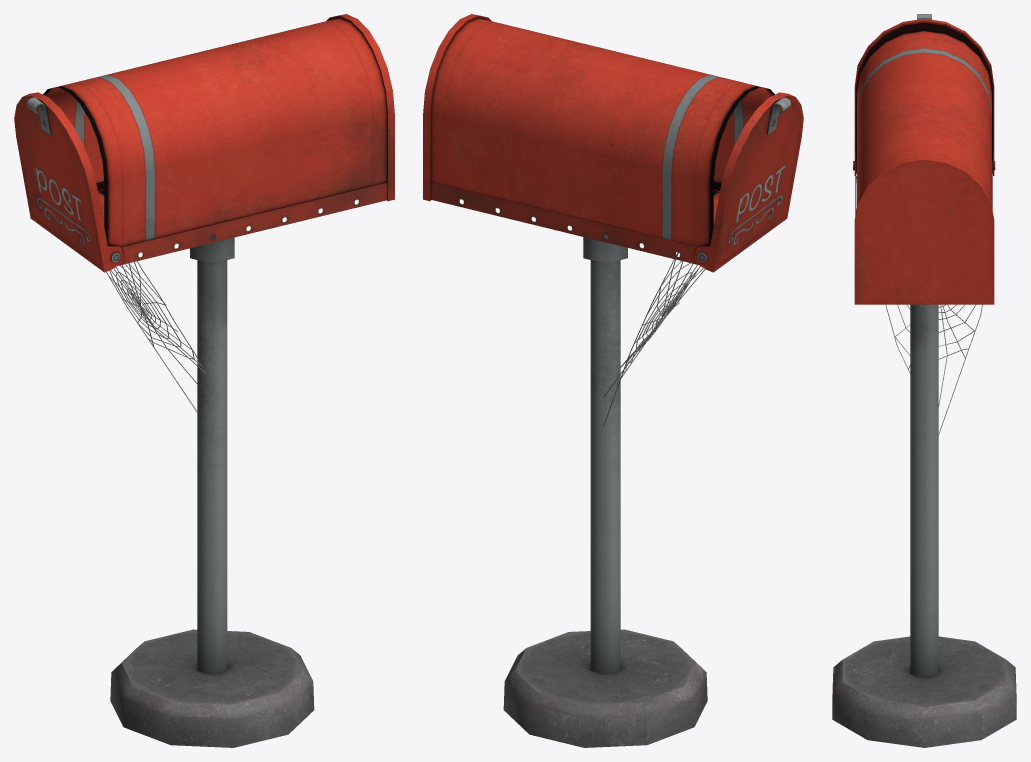
Rendered from mailbox_lp.glb.
The picture shows the model from 3 angles, left to right: view 1: azimuth 30°, elevation 25°; view 2: azimuth 150°, elevation 25°; view 3: azimuth 270°, elevation 25°; orthographic projection. The views are drawn at different scales.
Parts seen in each view (by area): view 1: polySurface48, polySurface47; view 2: polySurface48, polySurface47; view 3: polySurface48, polySurface47.
Part boxes in pixels (x1=…): polySurface48: x1=14, y1=14, x2=394, y2=747; polySurface47: x1=106, y1=261, x2=206, y2=412; polySurface48: x1=423, y1=14, x2=803, y2=747; polySurface47: x1=602, y1=252, x2=705, y2=427; polySurface48: x1=832, y1=14, x2=1016, y2=747; polySurface47: x1=856, y1=176, x2=982, y2=435.
Size of the model in its own units: 2.75 by 5.22 by 1.42.
Materials: 2 (1 with a texture image).
